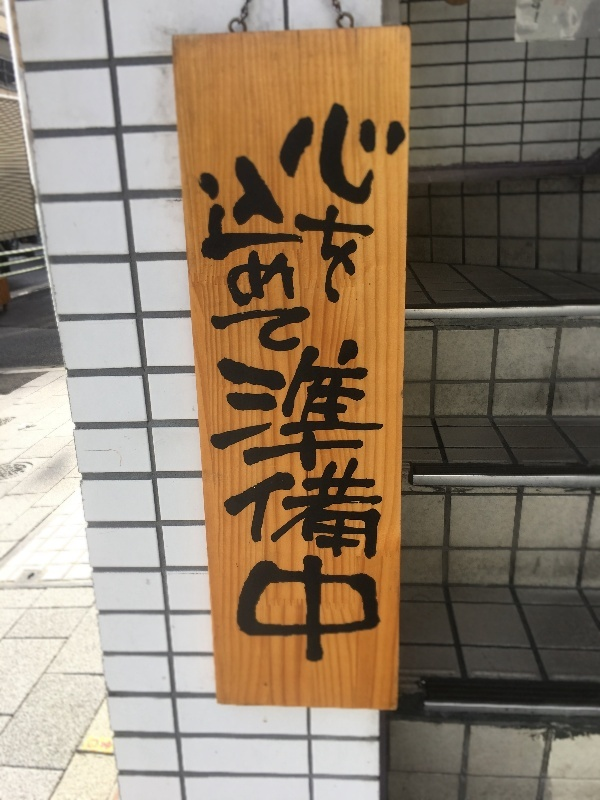text: (209, 332, 224, 671), (225, 332, 240, 671), (241, 332, 256, 671), (257, 332, 272, 671), (273, 332, 288, 671), (289, 332, 304, 671), (305, 332, 320, 671), (321, 332, 336, 671), (337, 332, 352, 671), (353, 332, 368, 671), (369, 332, 384, 671), (209, 133, 224, 353), (225, 133, 240, 353), (241, 133, 256, 353), (257, 133, 272, 353), (273, 133, 288, 353), (289, 133, 304, 353), (305, 133, 320, 353), (273, 87, 288, 307), (289, 87, 304, 307), (305, 87, 320, 307), (321, 87, 336, 307), (337, 87, 352, 307), (353, 87, 368, 307), (369, 87, 384, 307), (385, 87, 400, 307), (197, 133, 208, 353), (401, 87, 412, 307), (202, 332, 208, 671), (267, 87, 272, 307), (321, 133, 323, 353)
